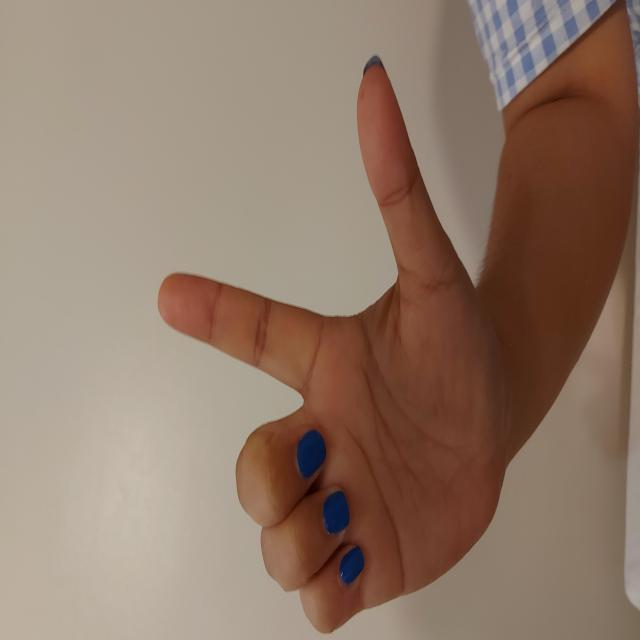L: (6, 156, 590, 506)
